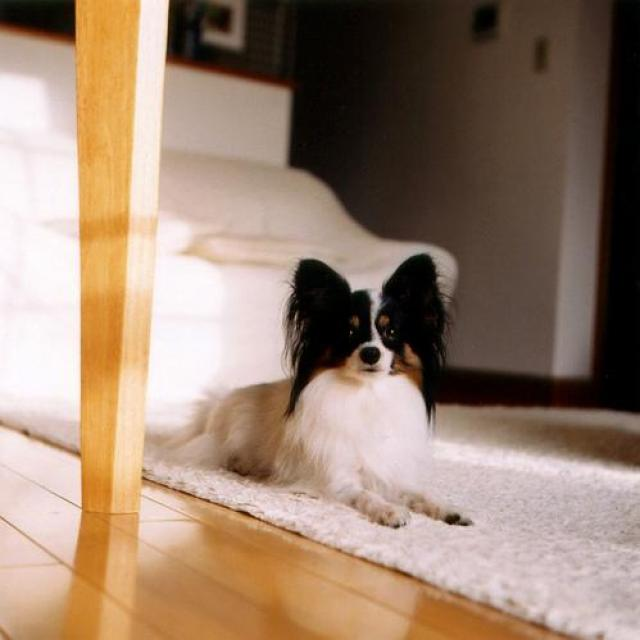papillon: (162, 251, 482, 535)
